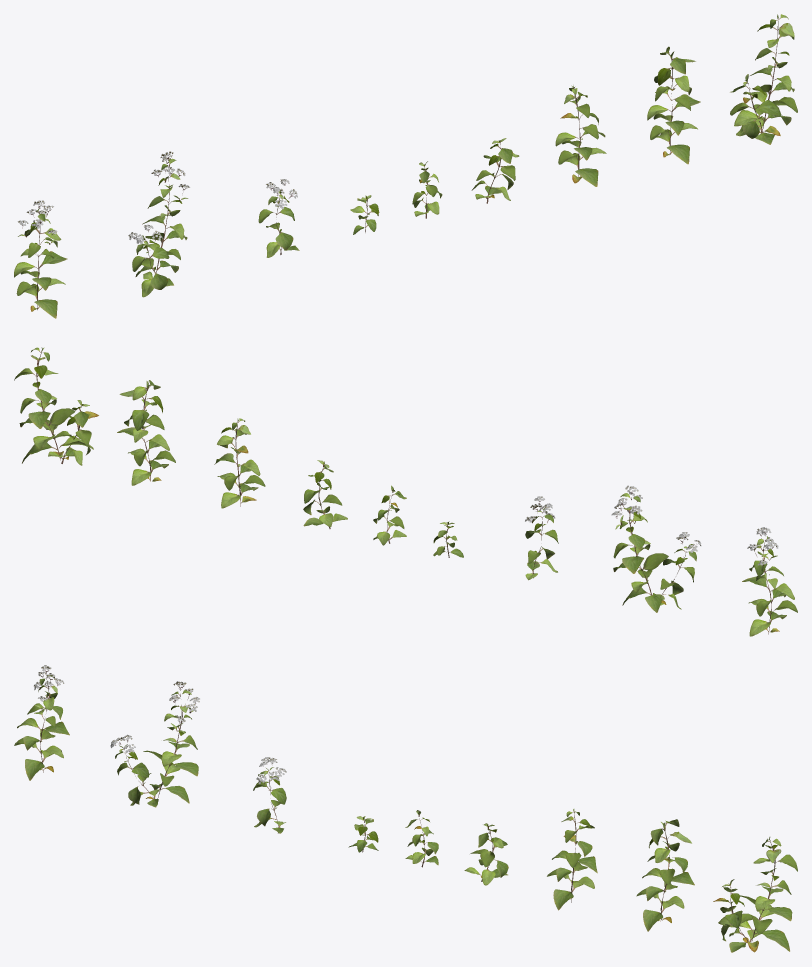
File: shrub_01.glb
The picture shows the model from 3 angles, top to bottom: view 1: azimuth 30°, elevation 25°; view 2: azimuth 150°, elevation 25°; view 3: azimuth 330°, elevation 25°; orthographic projection. The views are drawn at different scales.
Parts seen in each view (by area): view 1: shrub_01_a; view 2: shrub_01_a; view 3: shrub_01_a.
Boxes of the visible parts, bbox=[...] form: shrub_01_a: bbox=[14, 14, 797, 318]; shrub_01_a: bbox=[14, 347, 797, 636]; shrub_01_a: bbox=[14, 665, 797, 952].
Size of the model in its own units: 2.59 by 0.3955 by 0.2188.
Materials: 1 (1 with a texture image).
